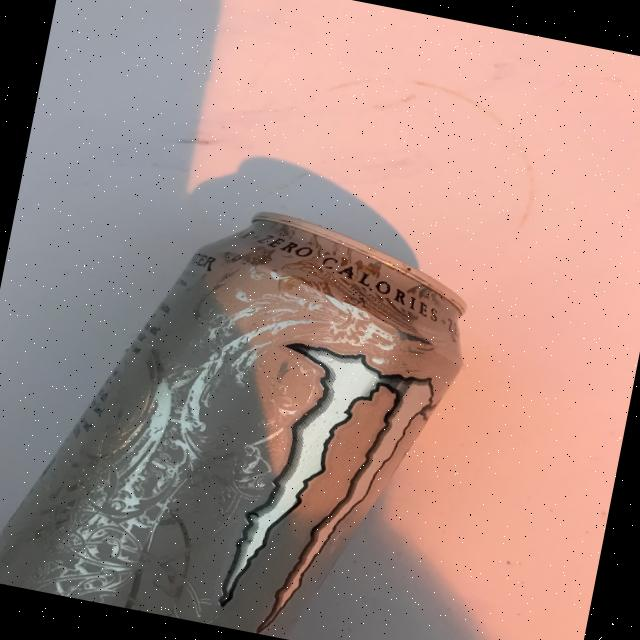metal: (0, 168, 486, 640)
